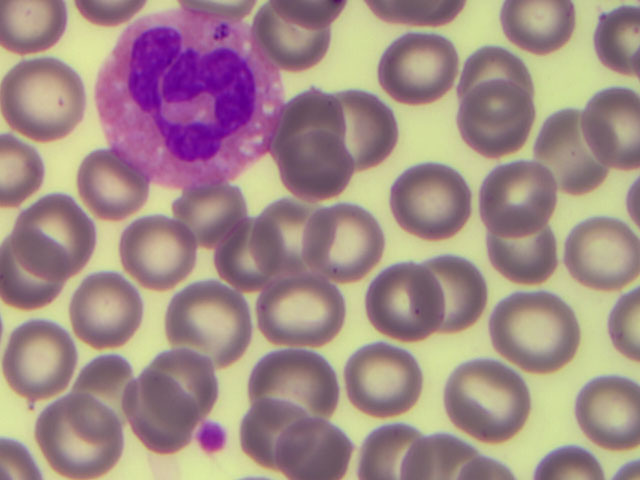Platelets: (195, 417, 228, 455)
RBC: (381, 28, 459, 112), (335, 85, 413, 169), (271, 81, 349, 165), (276, 132, 354, 216), (252, 196, 330, 280), (308, 199, 386, 283), (216, 214, 294, 298), (182, 175, 260, 259), (119, 212, 197, 296), (70, 144, 148, 228), (6, 196, 84, 280), (9, 59, 87, 143), (72, 267, 150, 351), (5, 320, 83, 404), (68, 337, 146, 421), (42, 396, 120, 480), (124, 371, 202, 455), (149, 333, 227, 417), (180, 278, 258, 362), (267, 264, 345, 348), (264, 343, 342, 427), (234, 390, 312, 474), (287, 396, 365, 480), (343, 338, 421, 422), (365, 263, 443, 347), (418, 247, 496, 331), (391, 161, 469, 245), (482, 155, 560, 239), (488, 219, 566, 303), (526, 107, 604, 191), (471, 86, 549, 170), (458, 34, 536, 118), (562, 88, 640, 172), (562, 208, 640, 292), (488, 294, 566, 378), (443, 355, 521, 439), (562, 365, 640, 449), (1, 227, 78, 311), (258, 1, 329, 73), (359, 414, 425, 480), (496, 1, 578, 48)
WBC: (93, 12, 287, 179)
